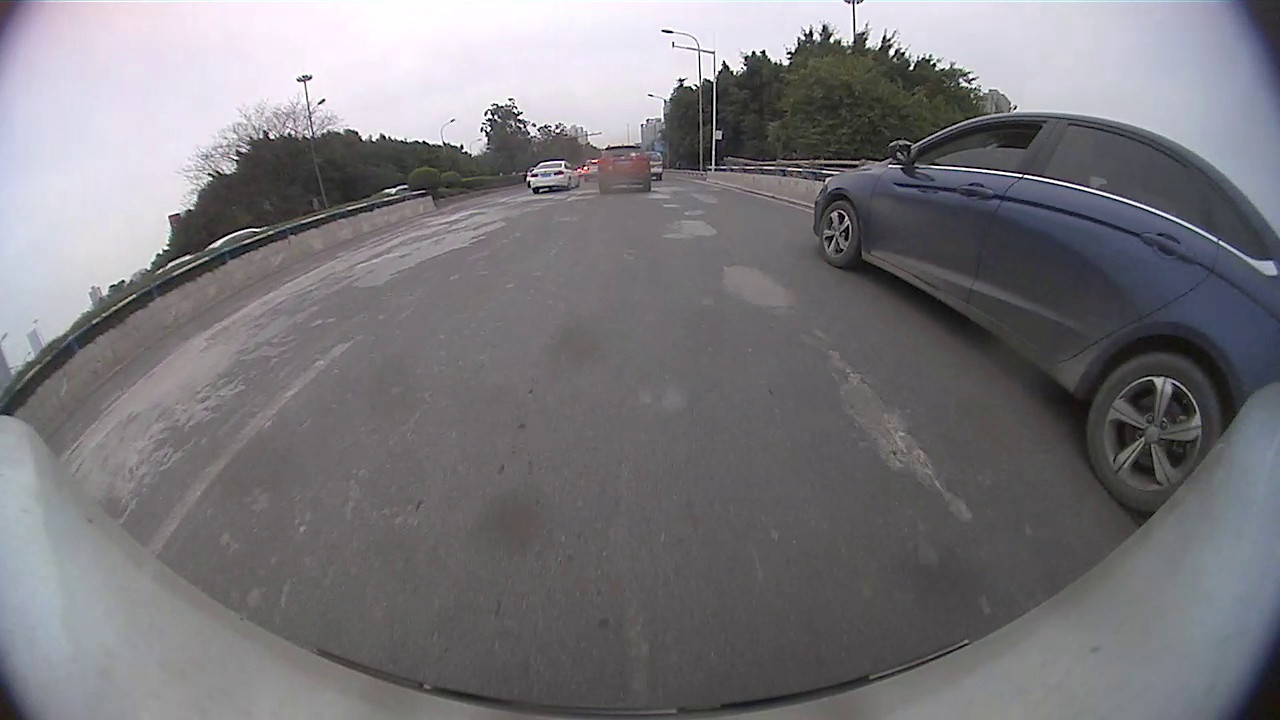car: (811, 110, 1279, 518), (596, 144, 653, 195), (528, 157, 582, 194)
front: (812, 199, 862, 273)
rear: (1089, 349, 1236, 520)
